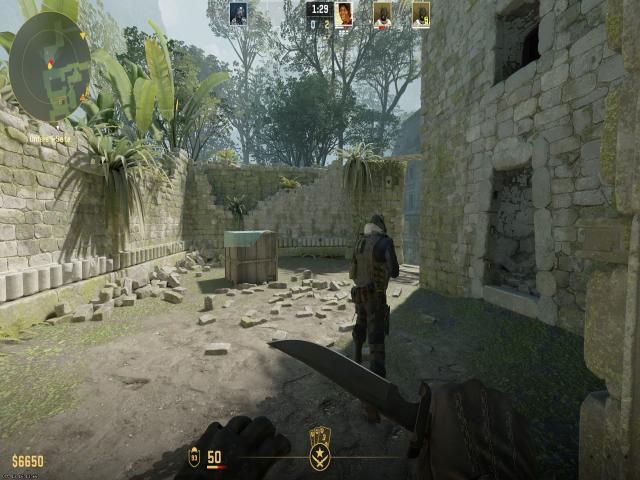CT-Head: (344, 206, 391, 376), (364, 211, 389, 241)
